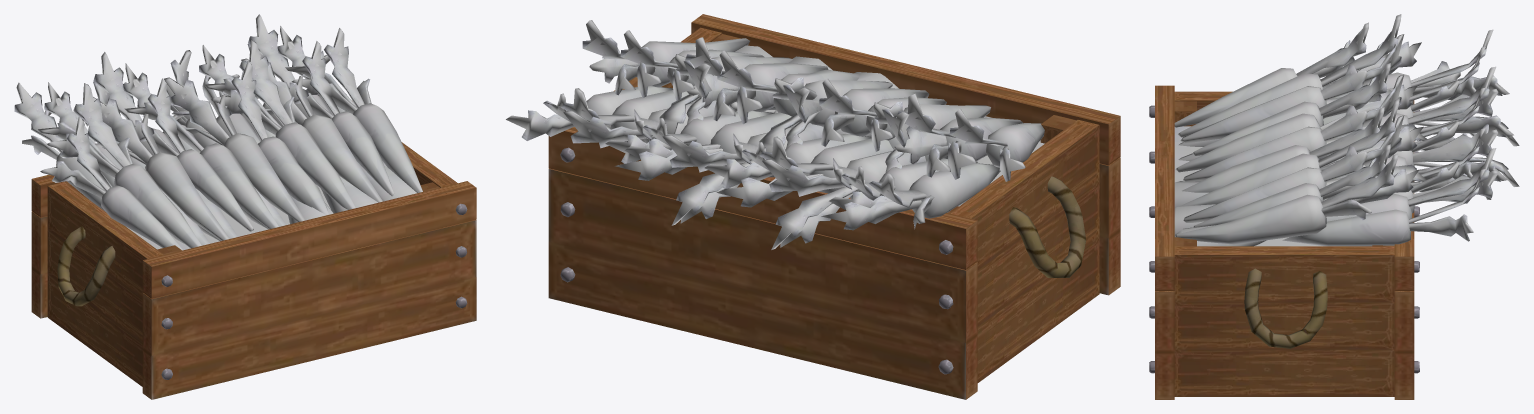
The model's file is crate-carrot.glb.
The picture shows the model from 3 angles, left to right: view 1: azimuth 30°, elevation 25°; view 2: azimuth 150°, elevation 25°; view 3: azimuth 270°, elevation 25°; orthographic projection. The views are drawn at different scales.
Visible parts, largest first — view 1: Cylinder_018; view 2: Cylinder_018; view 3: Cylinder_018.
Boxes of the visible parts, box(x1,y1,x2,y2) form: Cylinder_018: box(14, 14, 476, 399); Cylinder_018: box(506, 14, 1120, 399); Cylinder_018: box(1149, 14, 1519, 399).
Size of the model in its own units: 0.7138 by 0.4113 by 0.567.
Materials: 3 (3 with a texture image).
